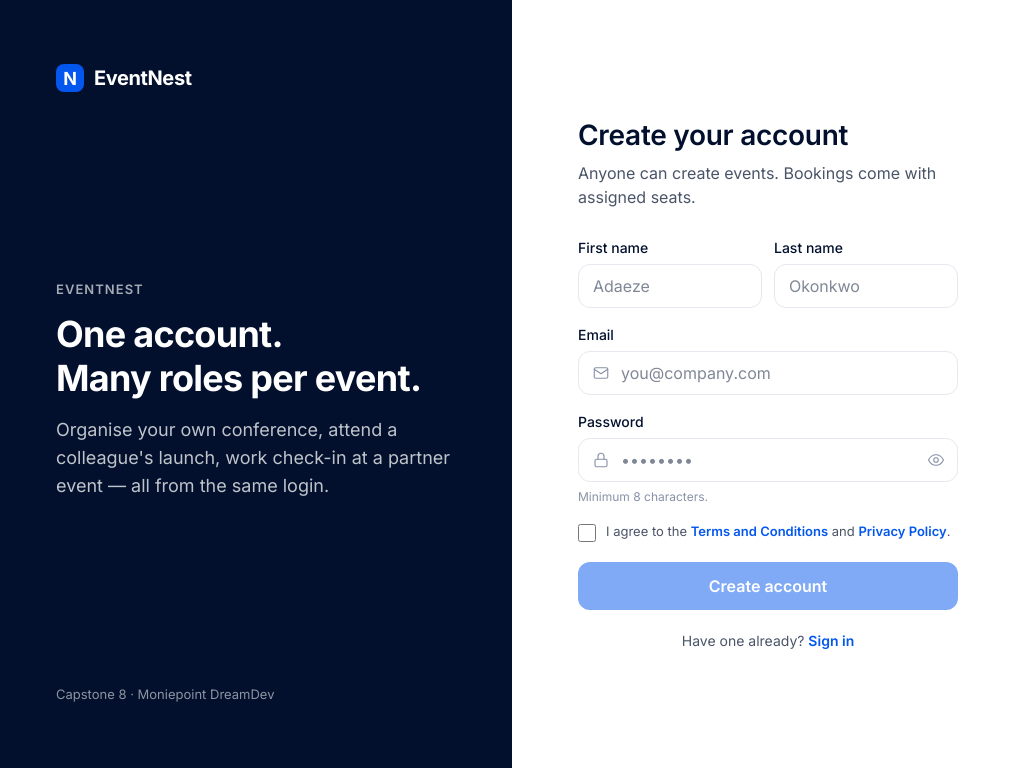
Test: RegisterPage › navigates to /login after successful registration
Type "Jane" into the field labelled "First name". click: (670, 286)
box: [578,264,762,308]
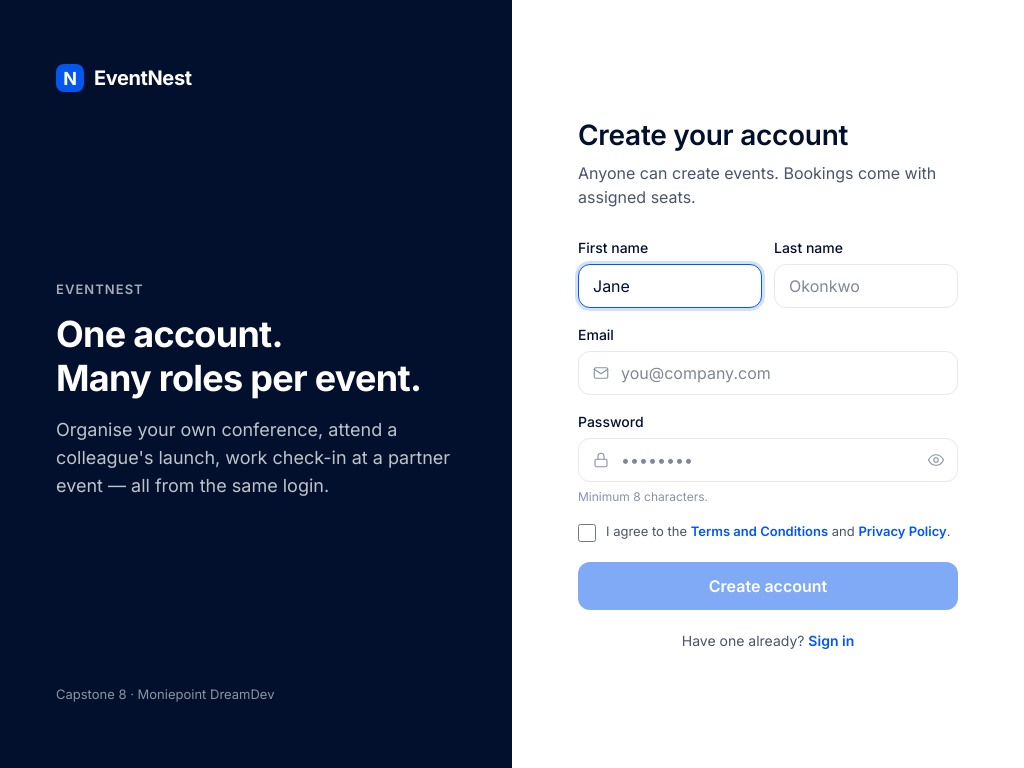
Type "Doe" into the field labelled "Last name". click: (866, 286)
box: [774,264,958,308]
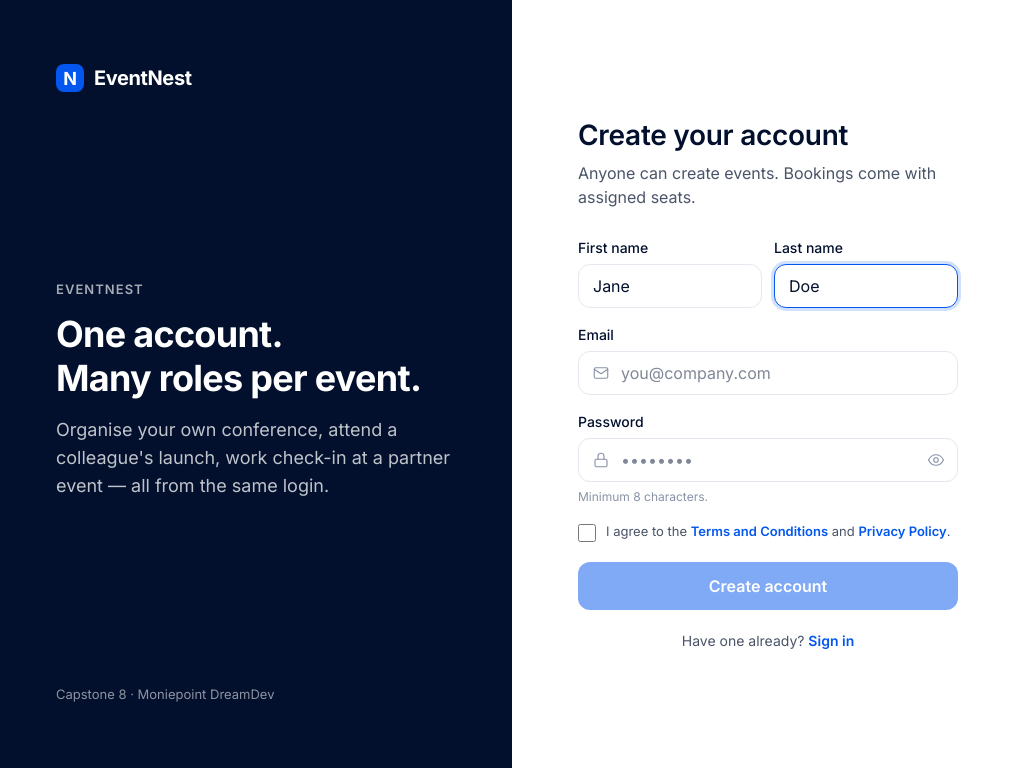
Type "jane@example.com" into the field labelled "Email". click: (768, 373)
box: [578,351,958,395]
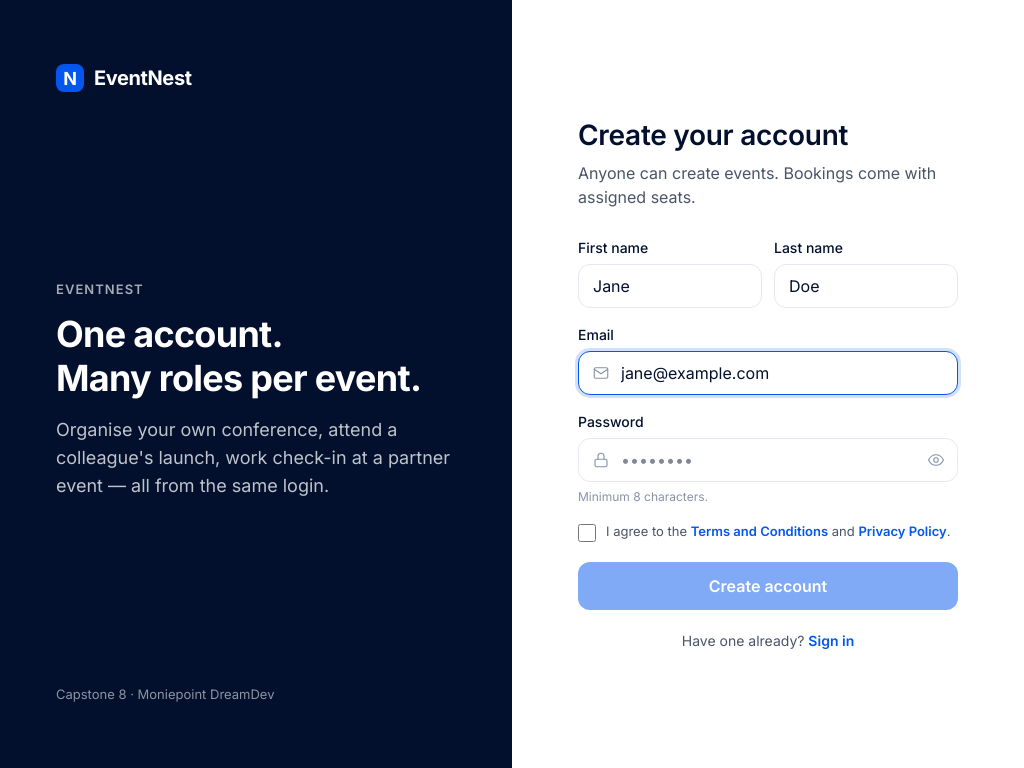
Type "password123" into the password field labelled "Password Minimum 8 characters.". click: (768, 460)
box: [578,438,958,482]
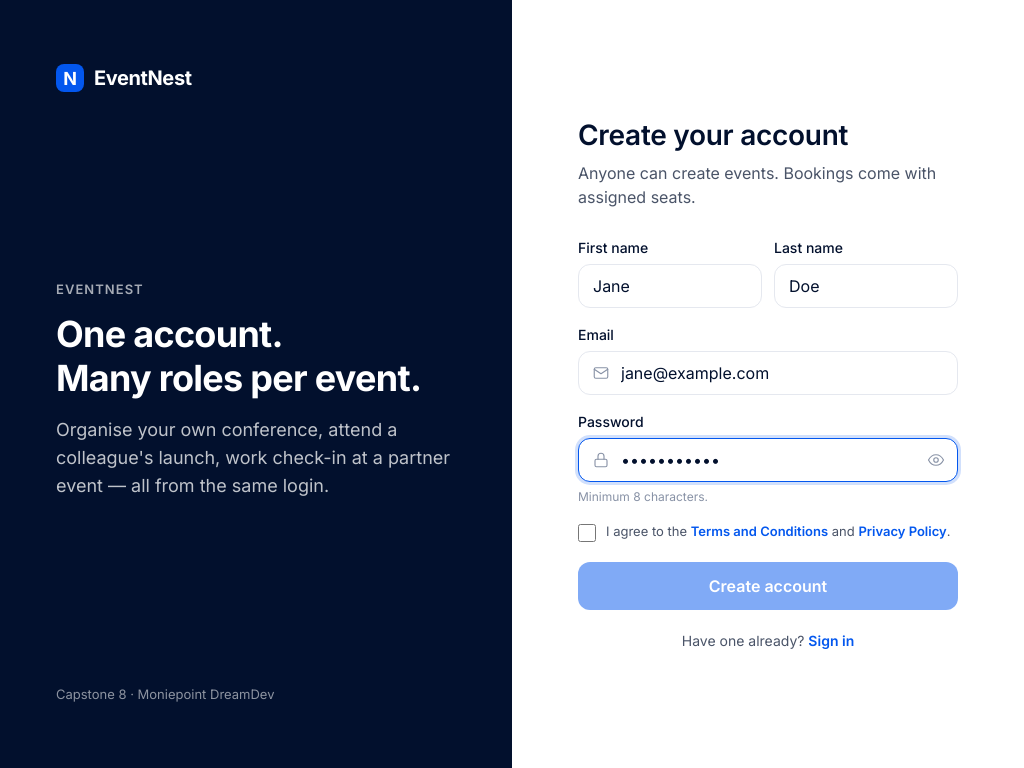
Click the checkbox. click: (587, 533)
box: [578,524,596,542]
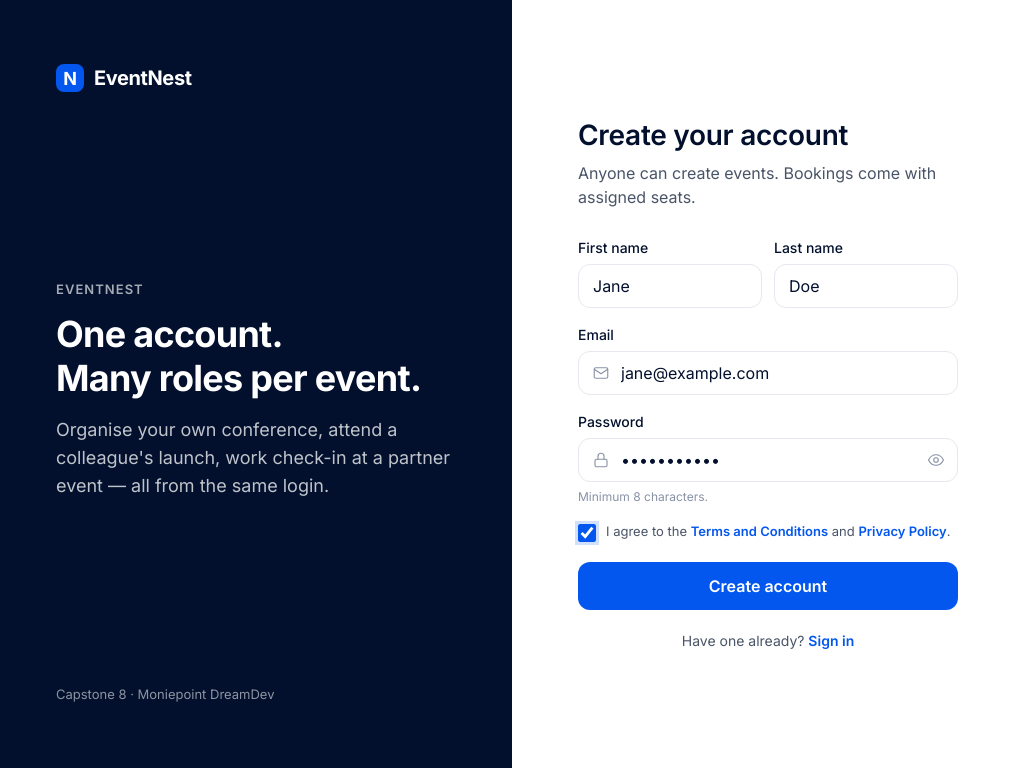
Click the button "Create account". click: (768, 586)
box: [578,562,958,610]
(page scrolled)
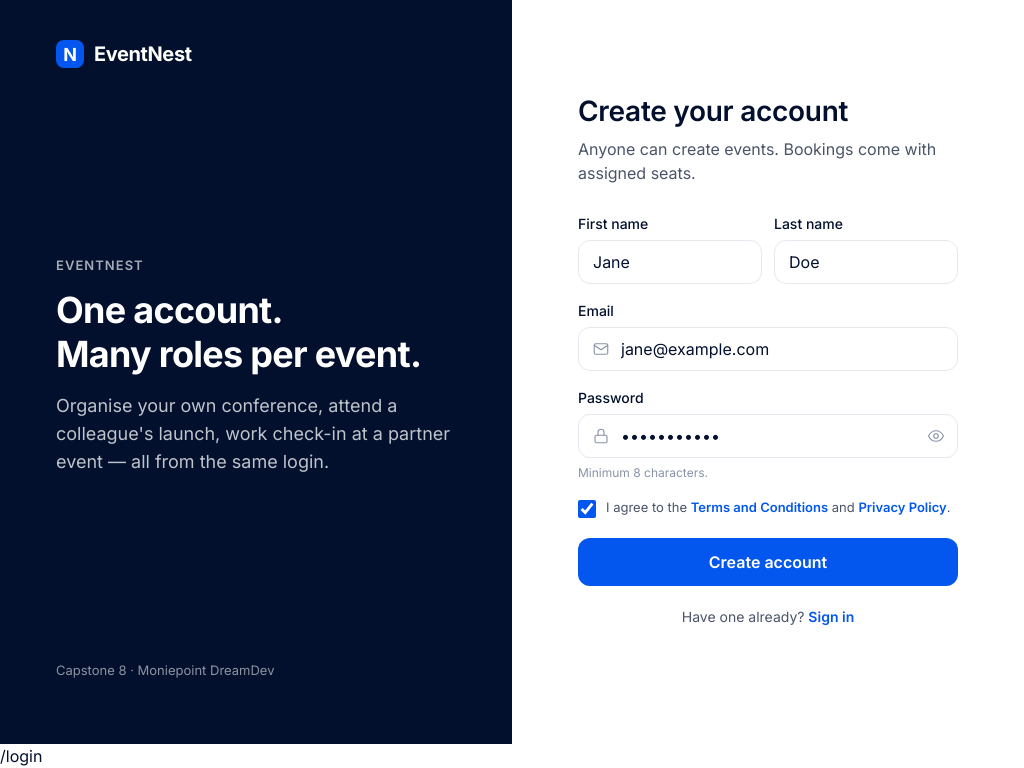
Now the text with test id "location" reads "/login", box [0,746,42,766]
